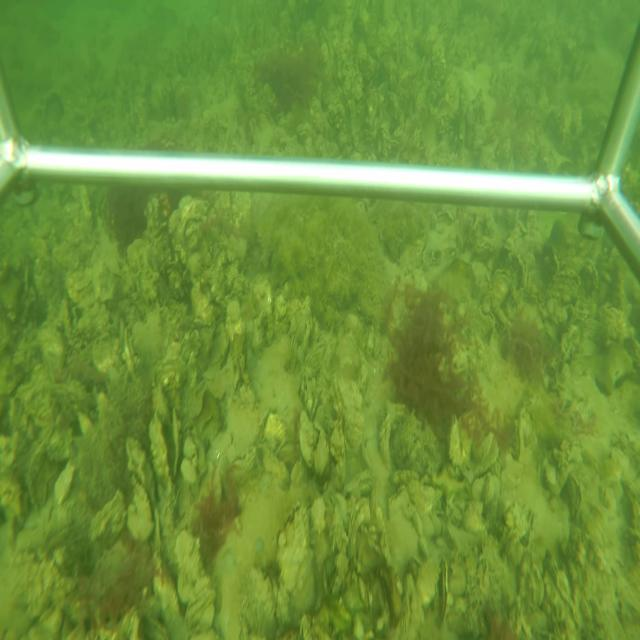Oyster-Closed: (272, 499, 317, 613), (386, 483, 427, 573), (393, 572, 421, 639), (346, 496, 373, 563), (438, 557, 451, 634)
Oyster-Open: (151, 399, 181, 530)
